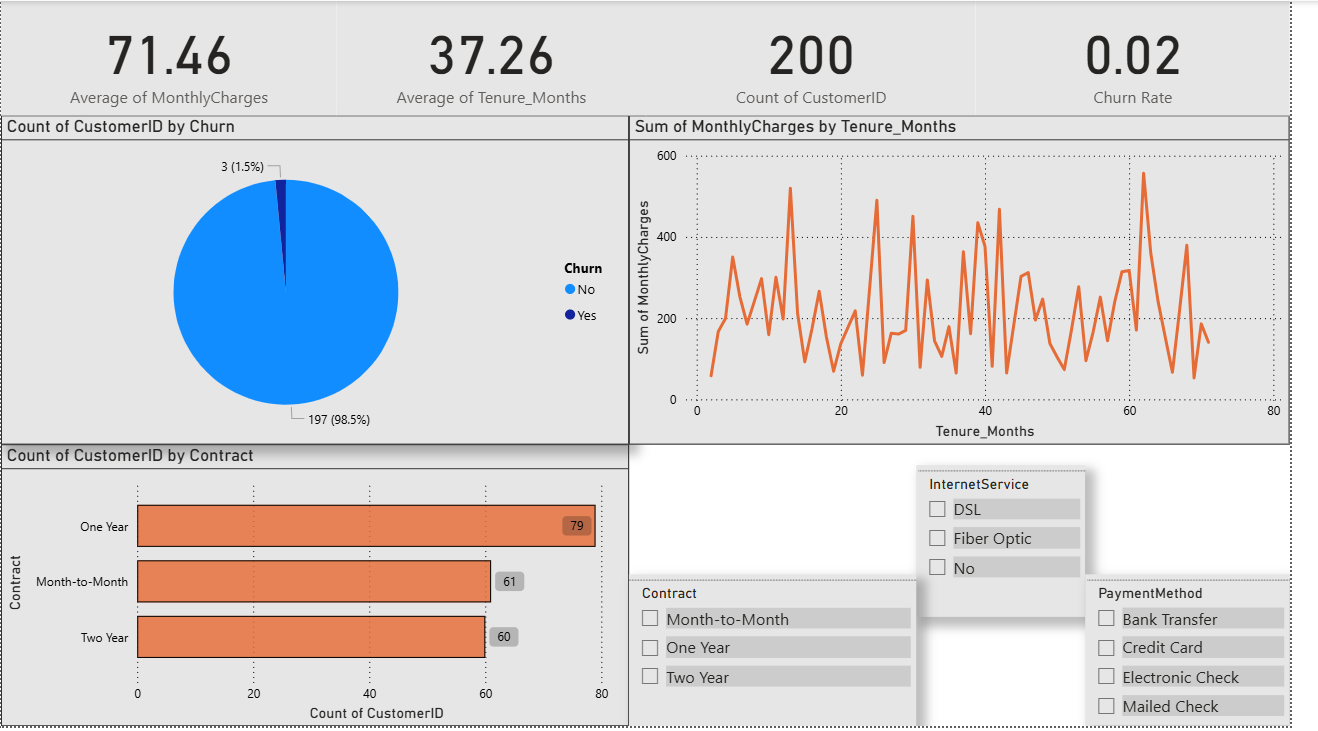

This screenshot's page, from the dashboard's own definition file:
{"tool":"powerbi","page":{"name":"Page 1","canvas":[1280,720],"ordinal":0},"visuals":[{"type":"barChart","fields":{"Y":["CountNonNull(telecom_churn_data.CustomerID)"],"Category":["telecom_churn_data.Contract"]},"box":[0,440.3,623.7,280.2],"z":0},{"type":"pieChart","fields":{"Y":["CountNonNull(telecom_churn_data.CustomerID)"],"Category":["telecom_churn_data.Churn"]},"box":[0,113.6,623.7,326.7],"z":1},{"type":"lineChart","fields":{"Y":["Sum(telecom_churn_data.MonthlyCharges)"],"Category":["telecom_churn_data.Tenure_Months"]},"box":[623.7,113.6,656,326.7],"z":2},{"type":"slicer","fields":{"Values":["telecom_churn_data.InternetService"]},"box":[909.1,461,167.9,151.1],"z":3},{"type":"card","fields":{"Values":["Avg(telecom_churn_data.MonthlyCharges)"]},"box":[0,0,333.2,113.6],"z":4},{"type":"card","fields":{"Values":["Avg(telecom_churn_data.Tenure_Months)"]},"box":[333.2,0,307.3,113.6],"z":5},{"type":"card","fields":{"Values":["CountNonNull(telecom_churn_data.CustomerID)"]},"box":[640.5,0,328,113.6],"z":6},{"type":"card","fields":{"Values":["telecom_churn_data.Churn Rate"]},"box":[968.5,0,311.2,113.6],"z":7},{"type":"slicer","fields":{"Values":["telecom_churn_data.PaymentMethod"]},"box":[1076.9,569.5,202.7,149.8],"z":8},{"type":"slicer","fields":{"Values":["telecom_churn_data.Contract"]},"box":[623.7,569.5,285.4,151.1],"z":9}]}

Visuals, with their boxes in screenshot pixels (x1, y1, x2, y2), scaled from the page's 1280x720 canvas onto the 1318x731 screenshot:
barChart - CountNonNull(telecom_churn_data.CustomerID) x telecom_churn_data.Contract: [0,447,642,730]
pieChart - CountNonNull(telecom_churn_data.CustomerID) x telecom_churn_data.Churn: [0,115,642,447]
lineChart - Sum(telecom_churn_data.MonthlyCharges) x telecom_churn_data.Tenure_Months: [642,115,1317,447]
slicer - telecom_churn_data.InternetService: [936,468,1109,621]
card - Avg(telecom_churn_data.MonthlyCharges): [0,0,343,115]
card - Avg(telecom_churn_data.Tenure_Months): [343,0,660,115]
card - CountNonNull(telecom_churn_data.CustomerID): [660,0,997,115]
card - telecom_churn_data.Churn Rate: [997,0,1317,115]
slicer - telecom_churn_data.PaymentMethod: [1109,578,1317,730]
slicer - telecom_churn_data.Contract: [642,578,936,730]
